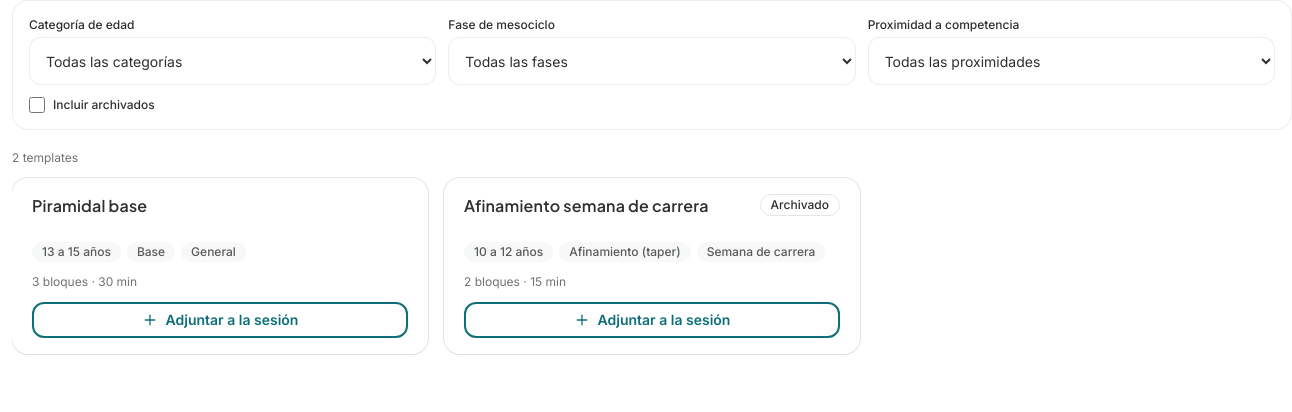
Test case: TemplatePicker — modo adjunto › un error genérico (409) muestra role=alert sin abrir el diálogo de compuerta
Step 1. Click the button "Adjuntar a la sesión" below "30 min" → (220, 320), box [32,302,408,338]
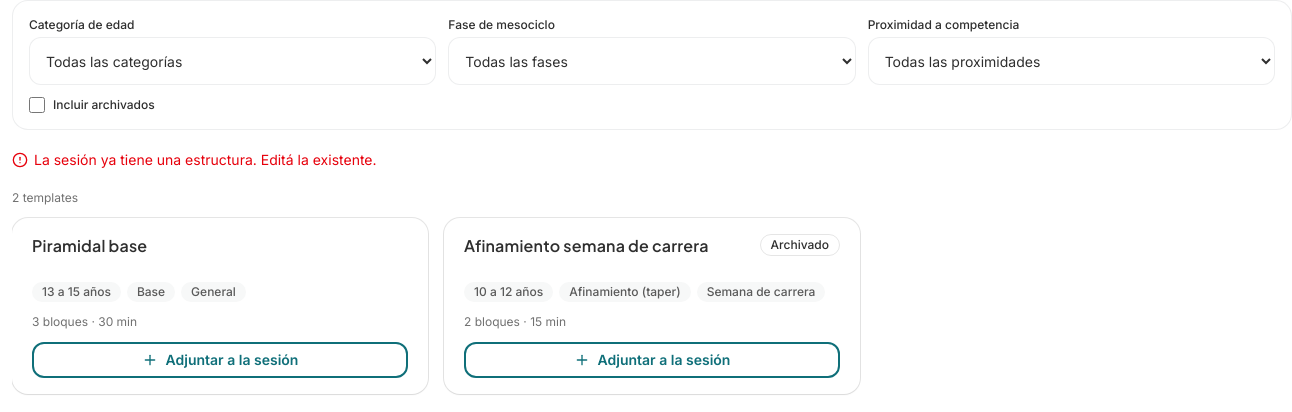
Now the message reads "La sesión ya tiene una estructura. Editá la existente.", box [34,151,376,168]
